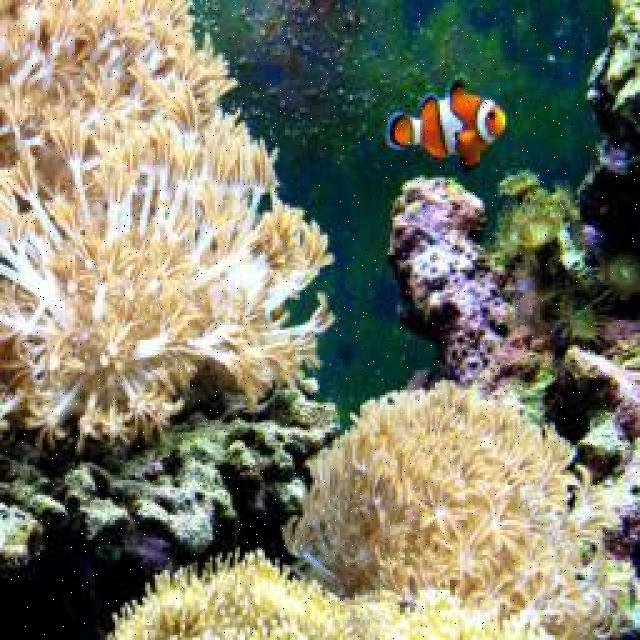fish: (388, 74, 504, 169)
reefs: (0, 0, 338, 451), (282, 380, 628, 637), (108, 549, 555, 638)
